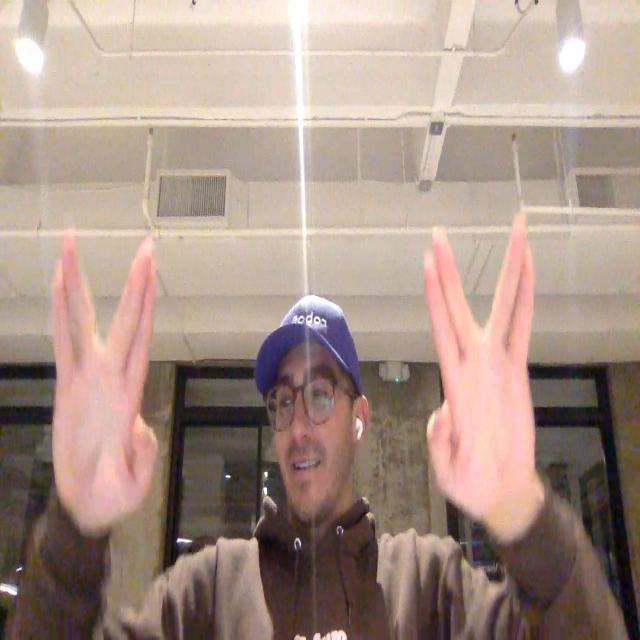face: (270, 362, 352, 525)
